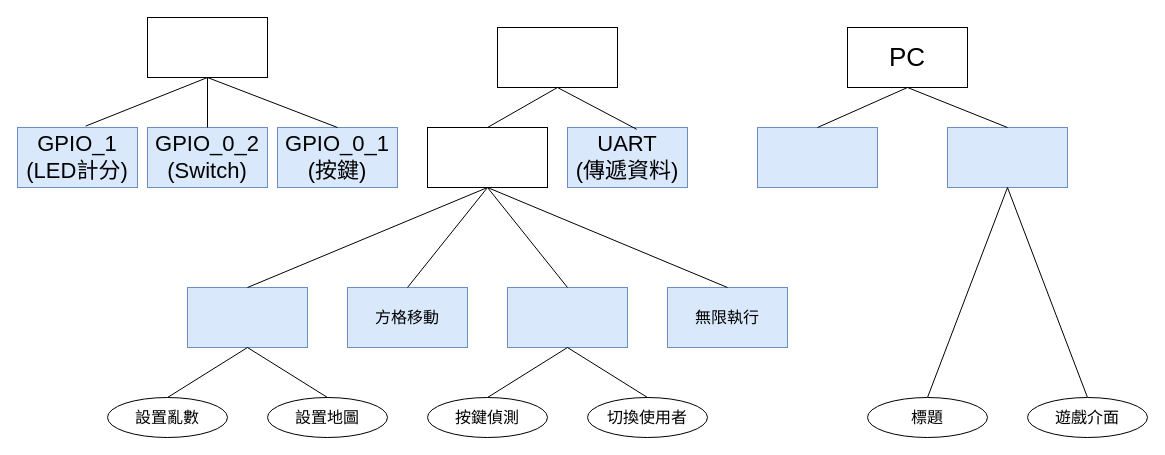
Image size: 1165x455. Some labels were removed from this diagram. The shapes that lost their labels are listed below. From the top down, each one's box as (x1, y1, x2, y2) in pixels, then its label:
(146, 16, 268, 78): PL
(496, 26, 618, 88): PS
(426, 126, 548, 188): 別踩白塊兒
(756, 126, 878, 188): UART (接收)
(946, 126, 1068, 188): 顯示畫面
(186, 286, 308, 348): 遊戲初始化
(506, 286, 628, 348): 中斷服務程式
